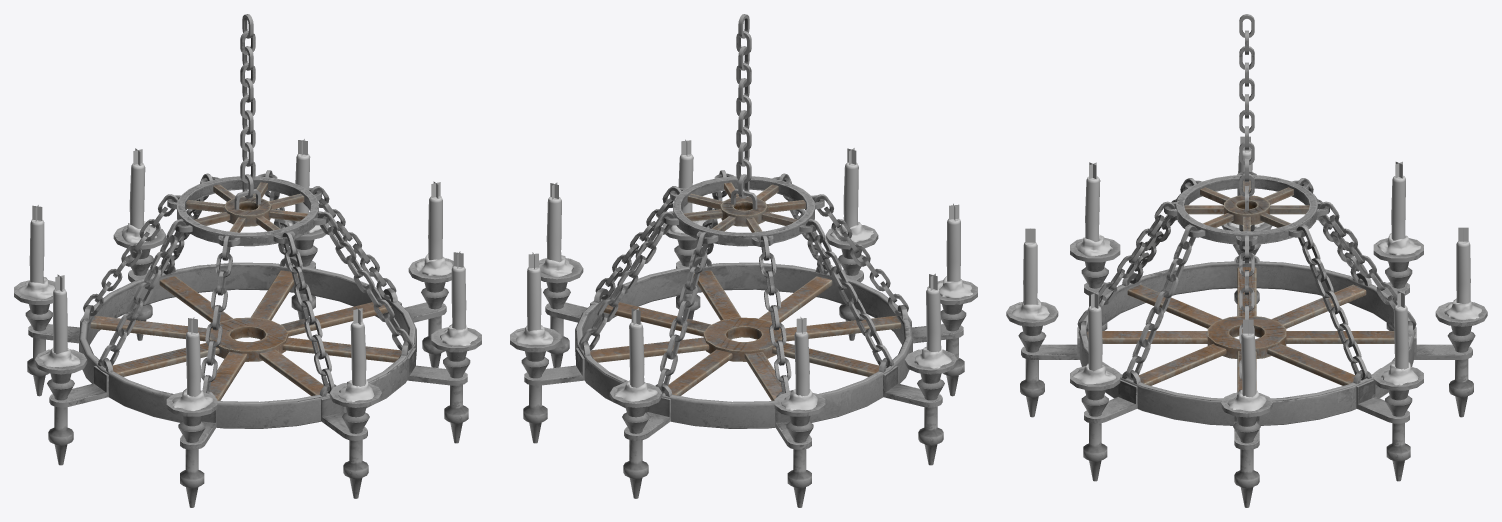
Rendered from SM_chandelier_01.fbx.
3 views of the same model, side by side, from view 1: azimuth 30°, elevation 25°; view 2: azimuth 150°, elevation 25°; view 3: azimuth 270°, elevation 25° (orthographic).
Parts seen in each view (by area): view 1: SM_chandelier_01_LOD0; view 2: SM_chandelier_01_LOD0; view 3: SM_chandelier_01_LOD0.
Part boxes in pixels (box(x1,y1,x2,y2)): SM_chandelier_01_LOD0: box(14, 14, 481, 507); SM_chandelier_01_LOD0: box(510, 14, 977, 507); SM_chandelier_01_LOD0: box(1006, 14, 1487, 507).
Size of the model in its own units: 163 by 163 by 150.
